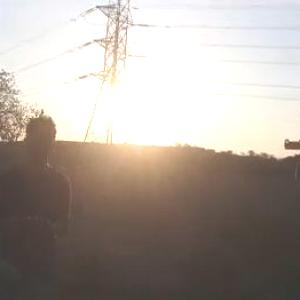follow: (0, 112, 76, 299)
